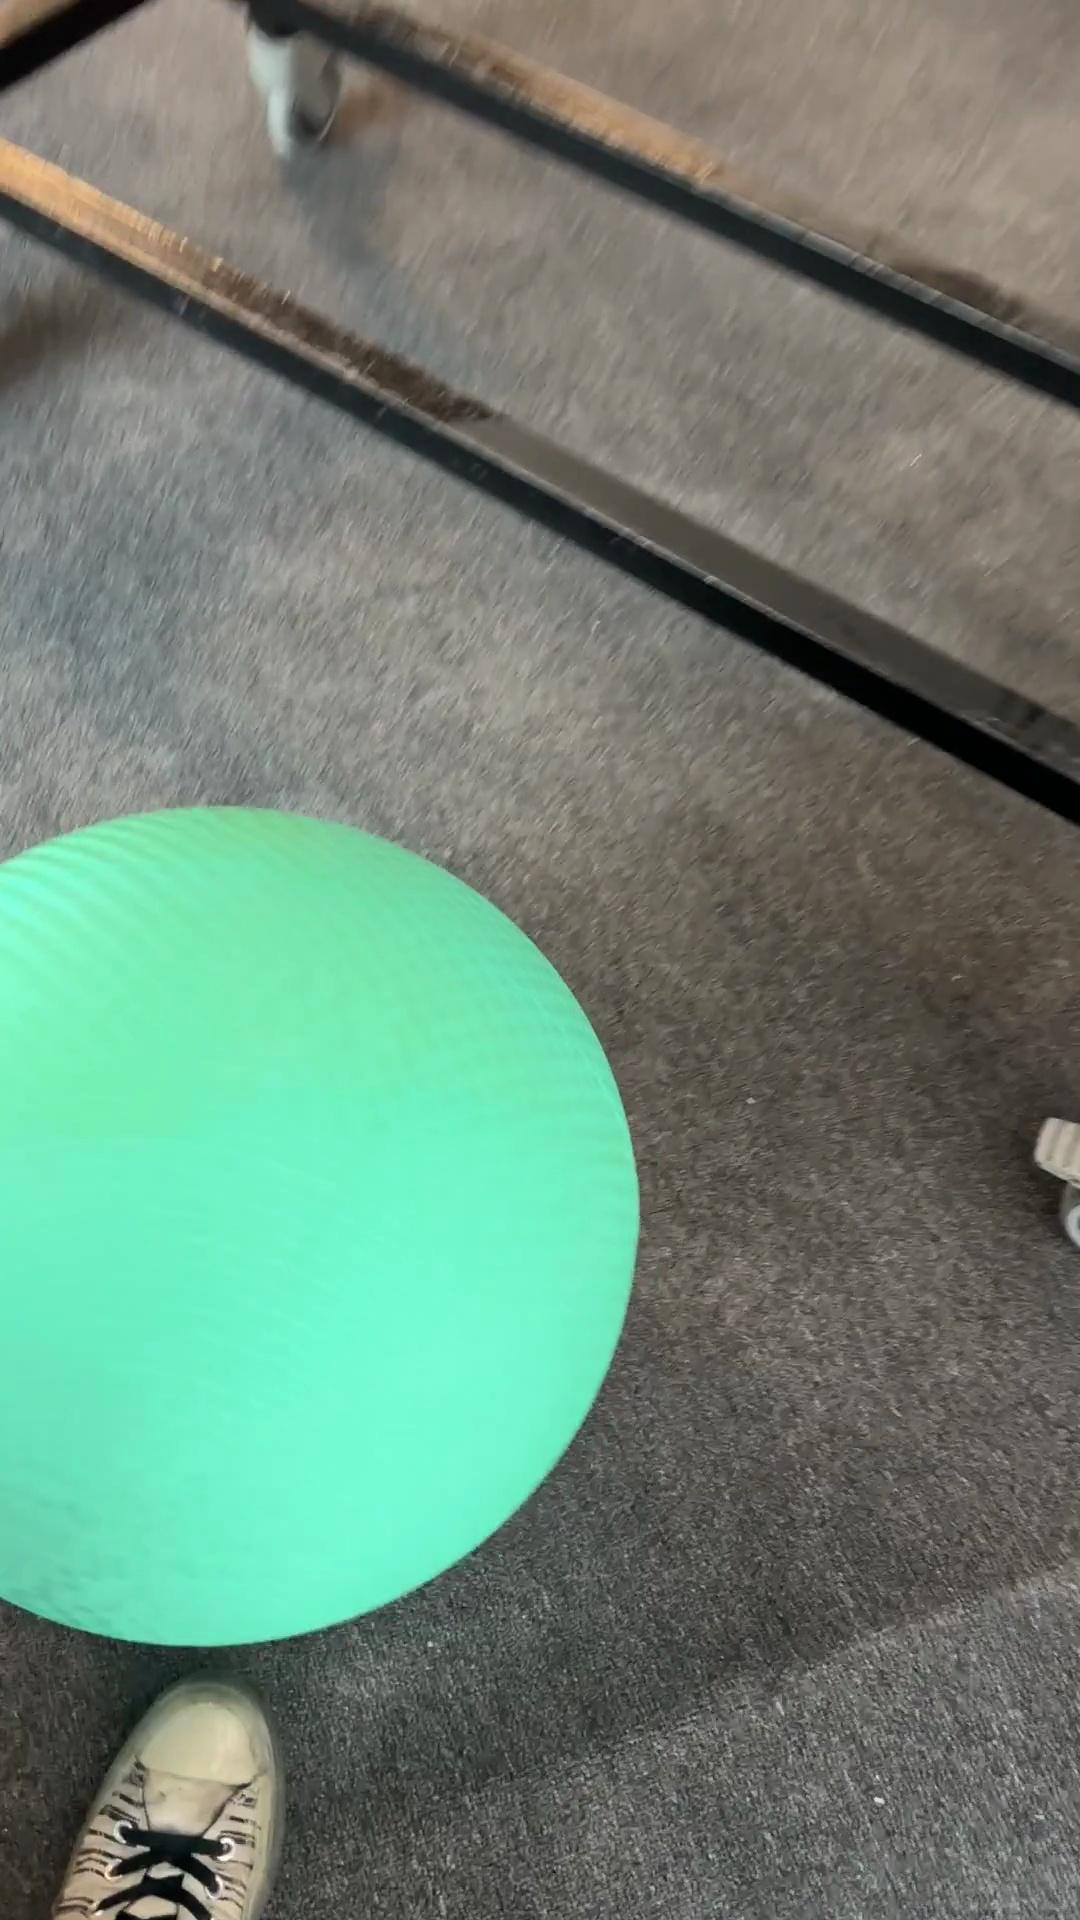ALGAE: (1, 801, 642, 1649)
